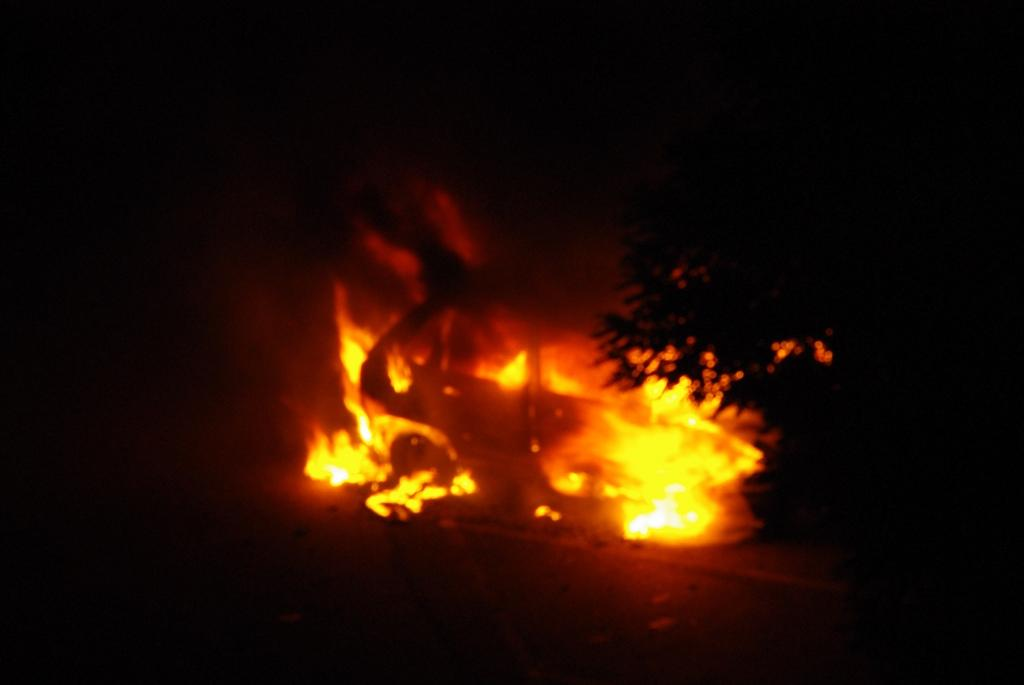fire: (615, 398, 735, 547), (330, 287, 415, 407), (317, 423, 453, 497)
